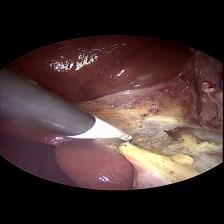Hook: (68, 115, 147, 153)
